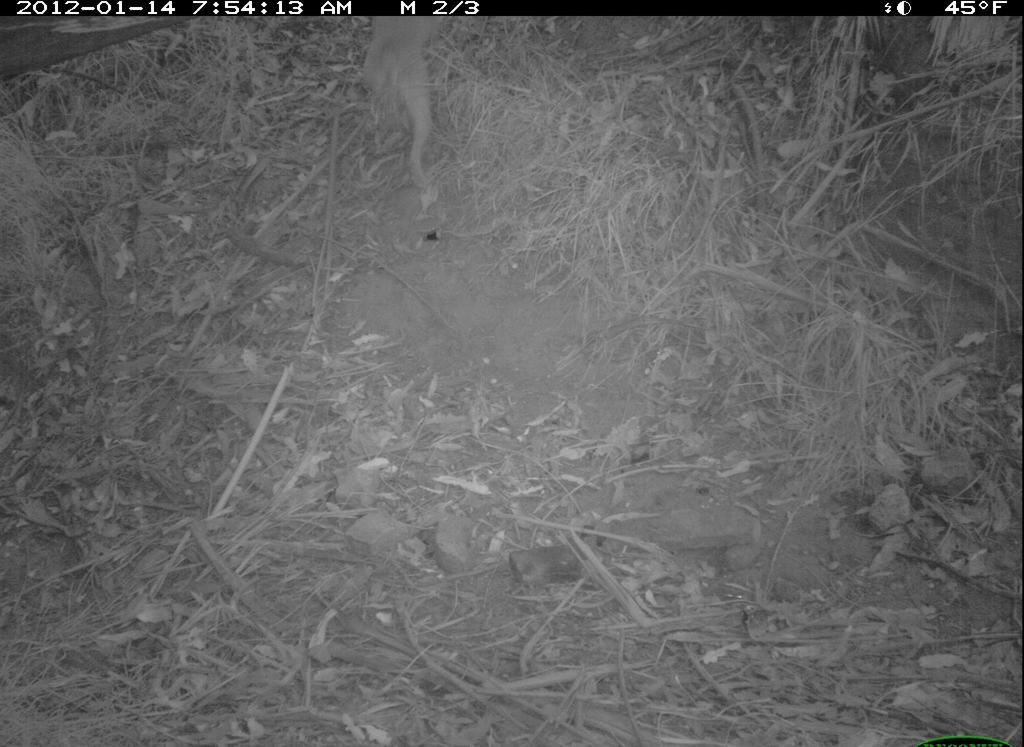dog: (341, 13, 472, 191)
